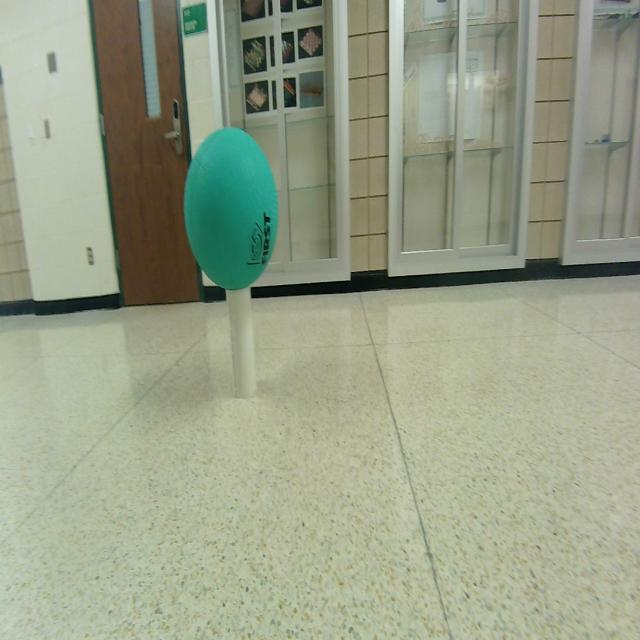algae: (184, 128, 279, 290)
coral: (226, 285, 256, 398)
